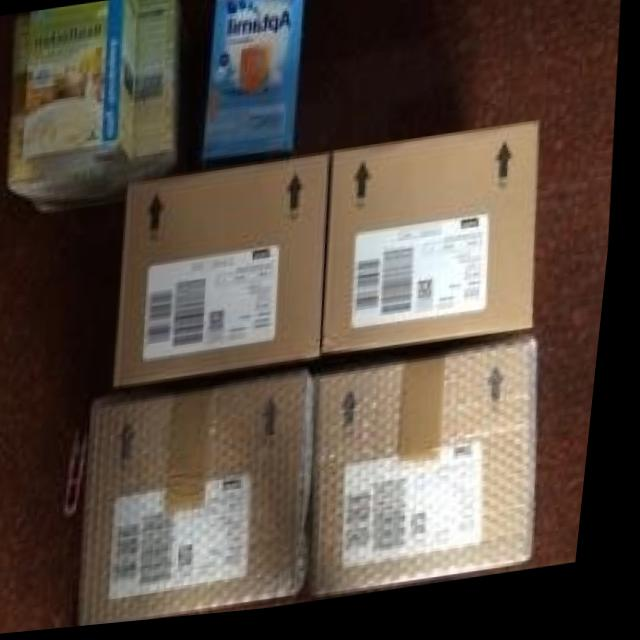box: (321, 340, 547, 606), (91, 376, 321, 629), (120, 158, 336, 387), (328, 134, 544, 361), (10, 13, 139, 219), (28, 0, 139, 181), (205, 0, 301, 163), (137, 0, 187, 175)
